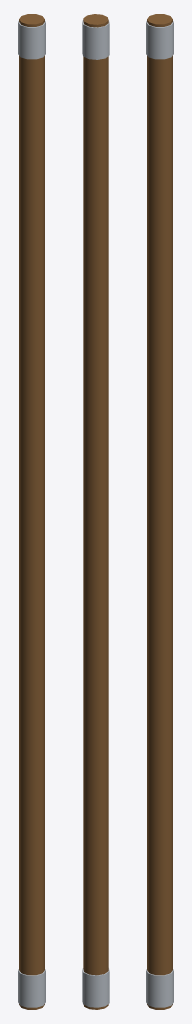
Rendered from shaolin-staff.glb.
The picture shows the model from 3 angles, left to right: view 1: azimuth 90°, elevation 25°; view 2: azimuth 150°, elevation 25°; view 3: azimuth 270°, elevation 25°; orthographic projection.
Visible parts, largest first — view 1: WoodStaff, EndBand (×2); view 2: WoodStaff, EndBand (×2); view 3: WoodStaff, EndBand (×2).
Boxes of the visible parts, x1,y1,x2,y2 form: WoodStaff: [19, 14, 44, 1009]; EndBand (×2): [18, 21, 45, 1007]; WoodStaff: [83, 14, 108, 1009]; EndBand (×2): [82, 19, 109, 1007]; WoodStaff: [147, 14, 172, 1009]; EndBand (×2): [146, 21, 173, 1007].
Bounding box in the file's own units: 0.0457 × 1.85 × 0.048.
